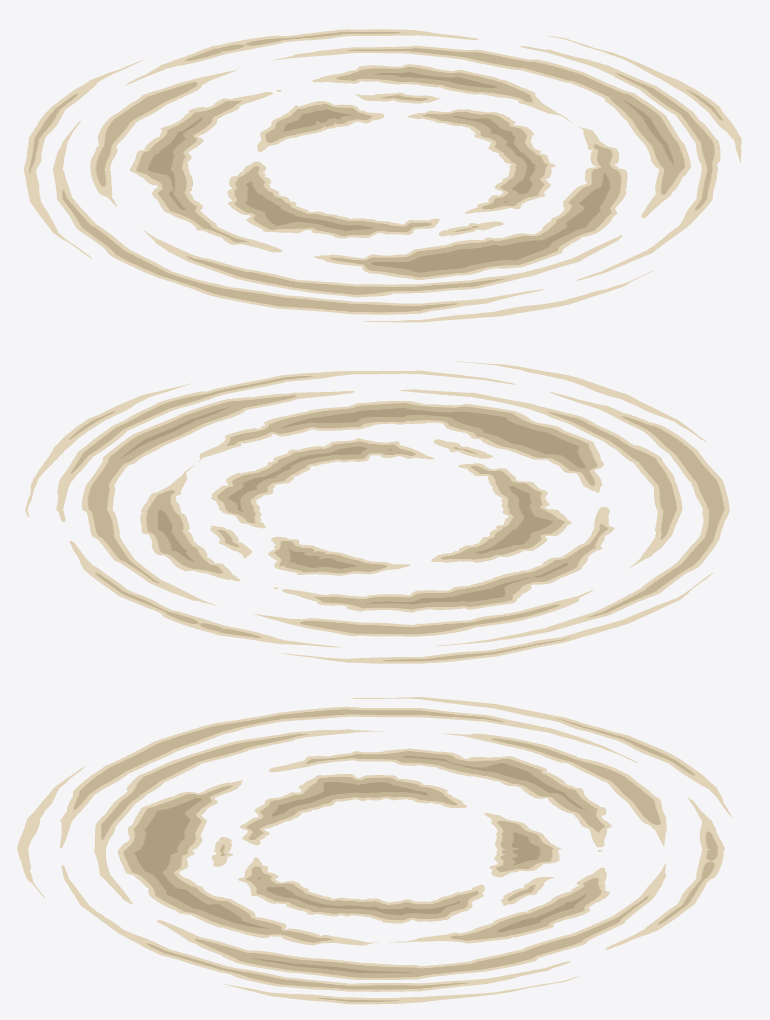
File: CycloneBottom.obj
3 renders of one model, top to bottom at view 1: azimuth 30°, elevation 25°; view 2: azimuth 150°, elevation 25°; view 3: azimuth 270°, elevation 25°, orthographic.
Visible parts, largest first — view 1: cyclone; view 2: cyclone; view 3: cyclone.
Part boxes in pixels (box(x1,y1,x2,y2)): cyclone: box(23, 29, 741, 322); cyclone: box(25, 361, 729, 663); cyclone: box(17, 697, 731, 1004).
Bounding box in the file's own units: 106 × 0 × 107.
